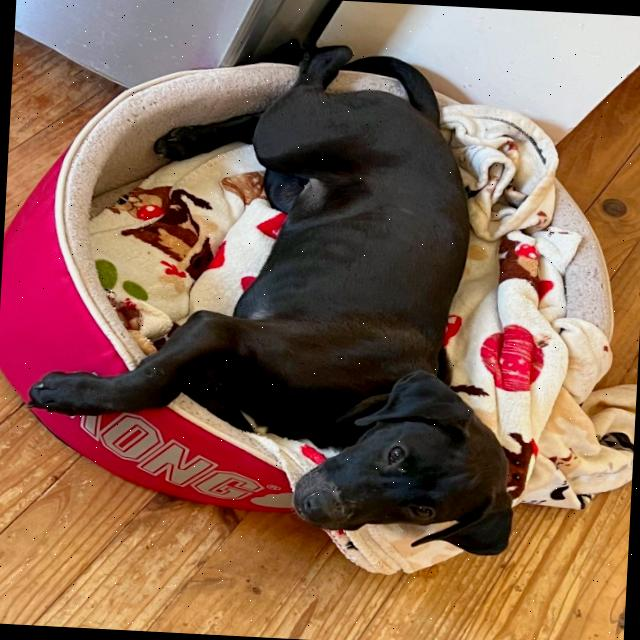labrador_retriever_dog: (280, 352, 540, 585)
